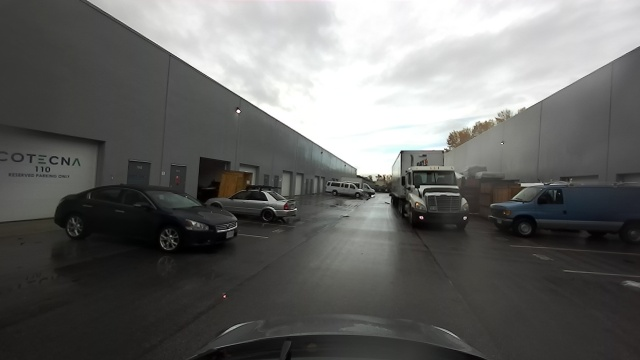car: (51, 184, 241, 255), (484, 178, 640, 240), (386, 147, 472, 231), (232, 185, 297, 221), (322, 179, 368, 197)
